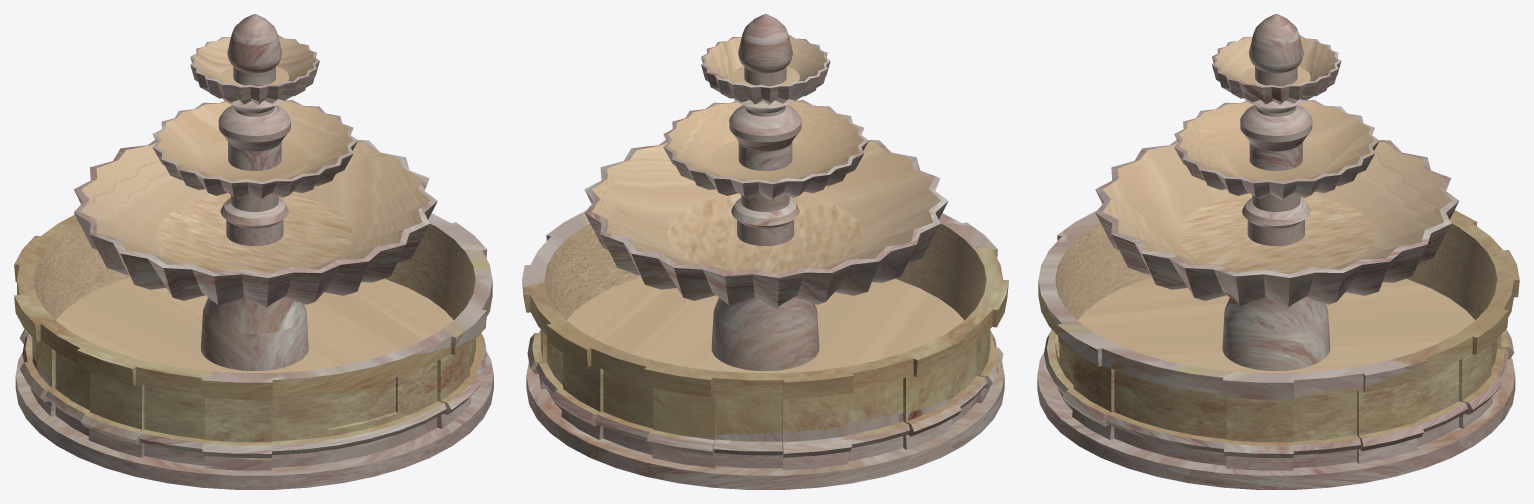
File: FuenteSolved.fbx
3 views of the same model, side by side, from view 1: azimuth 30°, elevation 25°; view 2: azimuth 150°, elevation 25°; view 3: azimuth 270°, elevation 25° (orthographic).
Parts seen in each view (by area): view 1: Cylinder.001; view 2: Cylinder.001; view 3: Cylinder.001.
Boxes of the visible parts, <box> form: Cylinder.001: <box>14,14,493,489</box>; Cylinder.001: <box>522,14,1008,489</box>; Cylinder.001: <box>1037,14,1519,489</box>.
Size of the model in its own units: 747 by 635 by 742.
